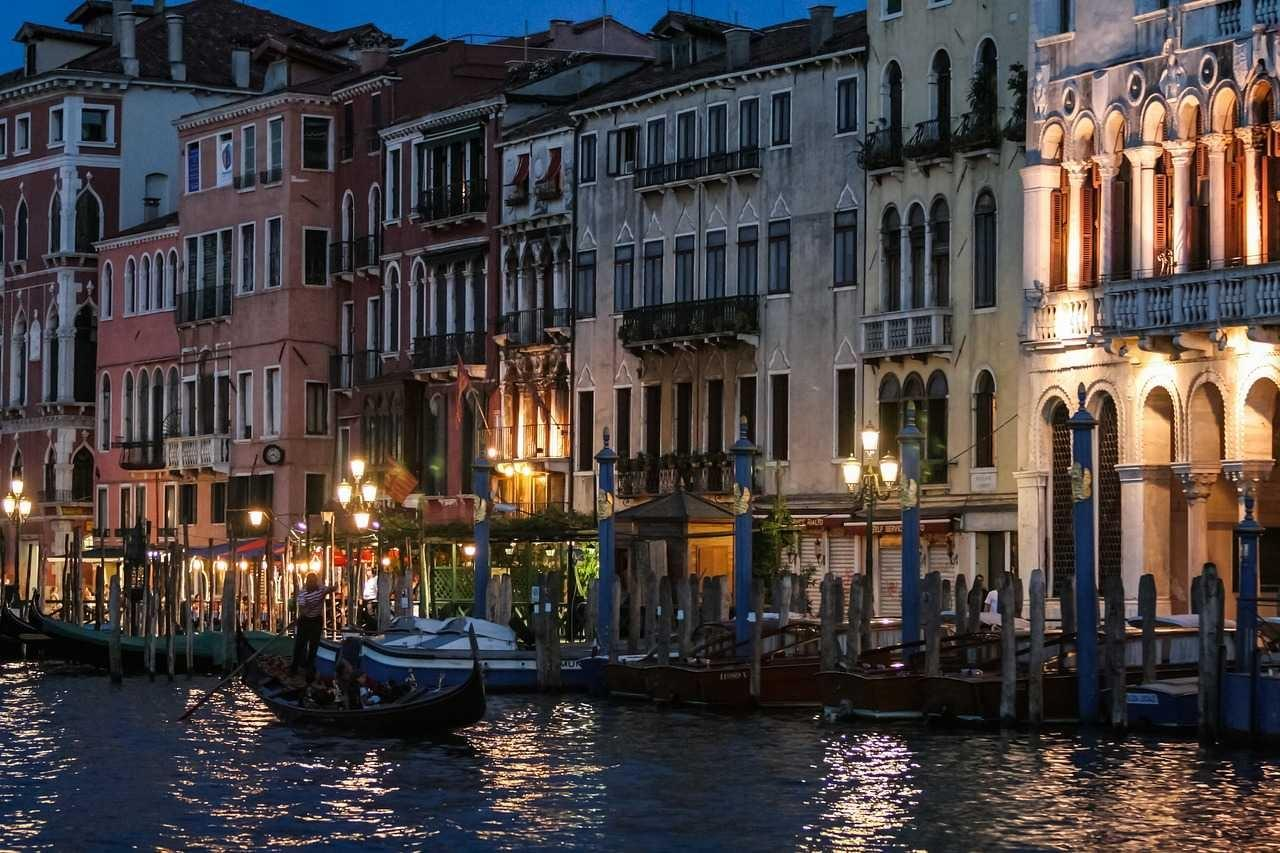kayak: (237, 627, 487, 737), (622, 620, 823, 709), (1122, 614, 1274, 729), (358, 616, 573, 691), (34, 609, 231, 671), (813, 661, 1004, 724), (0, 606, 49, 660)
